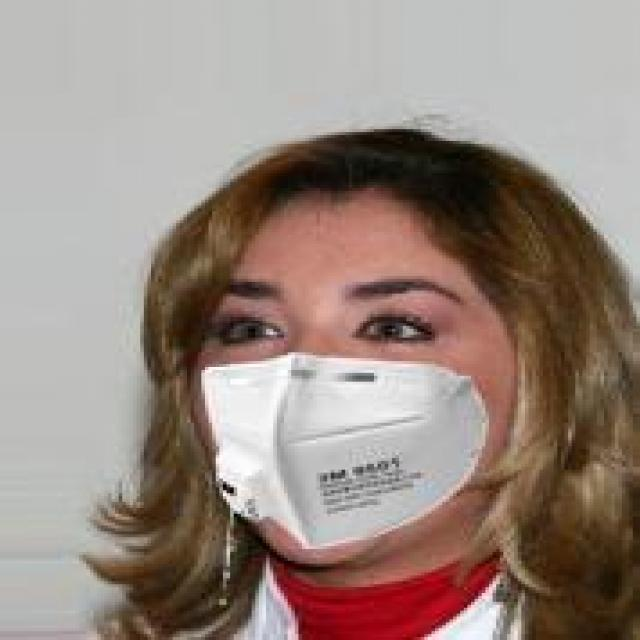mask: (147, 118, 618, 566)
